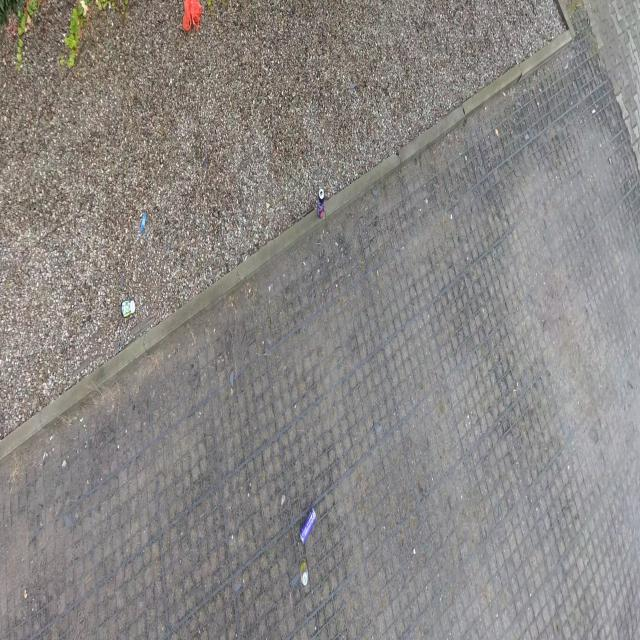rubbish: (299, 506, 317, 543), (183, 0, 203, 33), (121, 300, 136, 319), (299, 555, 308, 586), (316, 190, 325, 218), (140, 212, 147, 233)
